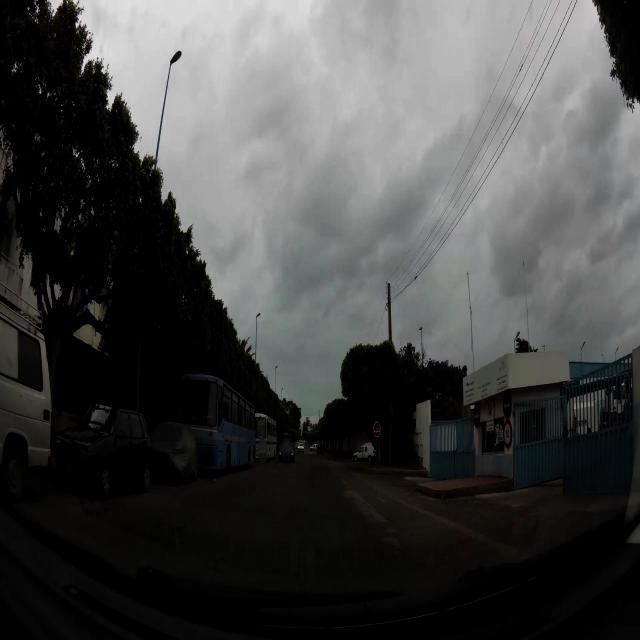car: (51, 400, 152, 500), (149, 421, 198, 483), (278, 432, 296, 463), (352, 441, 376, 463), (310, 442, 317, 453)
